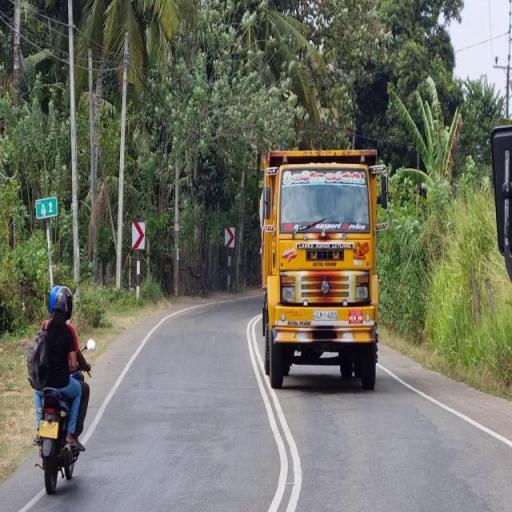double_white_line: (246, 308, 306, 510), (18, 489, 43, 510)
